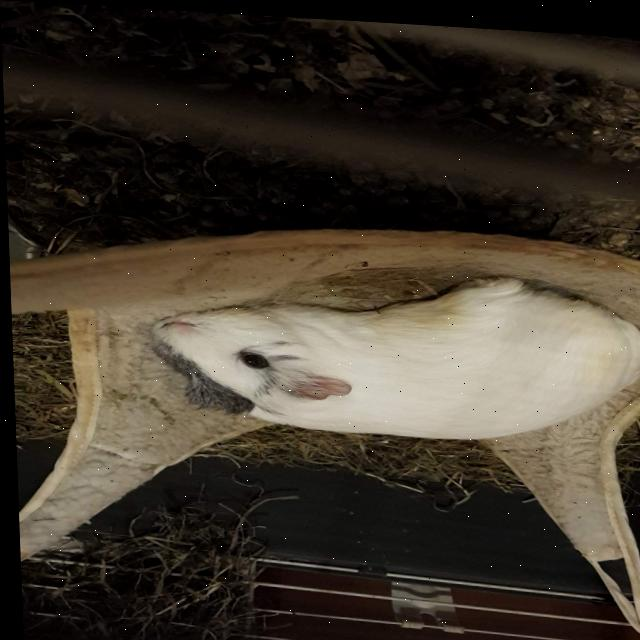guinea pig: (138, 252, 640, 447)
